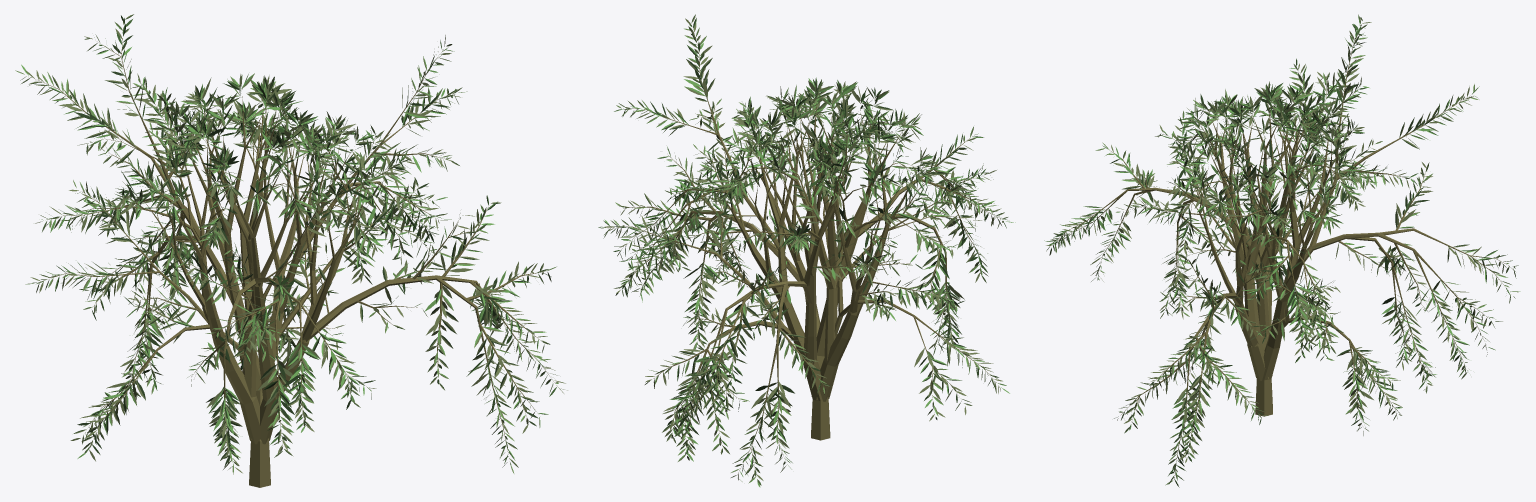
Rendered from arvore4.fbx.
The picture shows the model from 3 angles, left to right: view 1: azimuth 30°, elevation 25°; view 2: azimuth 150°, elevation 25°; view 3: azimuth 270°, elevation 25°; orthographic projection. The views are drawn at different scales.
Parts seen in each view (by area): view 1: tree.004; view 2: tree.004; view 3: tree.004.
Part boxes in pixels (x1=…): tree.004: x1=15, y1=14, x2=567, y2=487; tree.004: x1=598, y1=14, x2=1015, y2=487; tree.004: x1=1044, y1=14, x2=1520, y2=487.
Bounding box in the file's own units: 1231 × 1127 × 1346.
